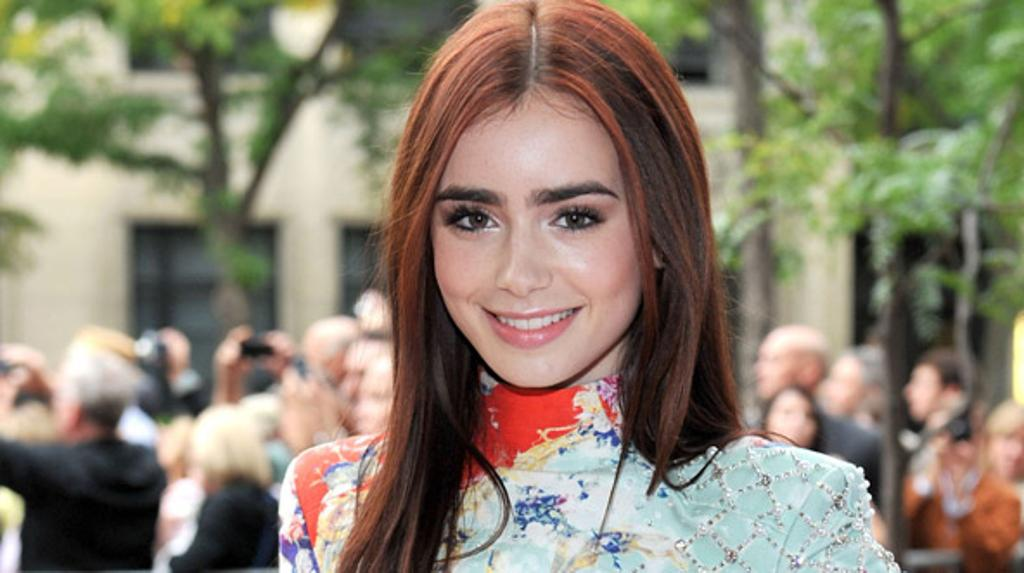face: (426, 96, 648, 390)
